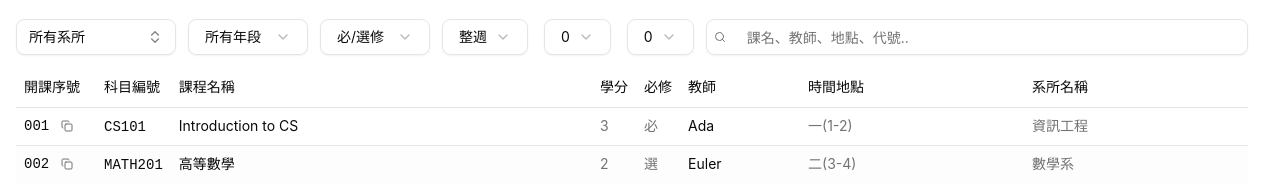
Scenario: CourseInfoTable › filters by search term
The image size is (1268, 188).
Expected: the text "Introduction to CS" is shown, [179,117,298,134]
Type "數學" into the field with placeholder "課名、教師、地點、代號..".
click(977, 37); type("數學")  # box [706,19,1248,55]
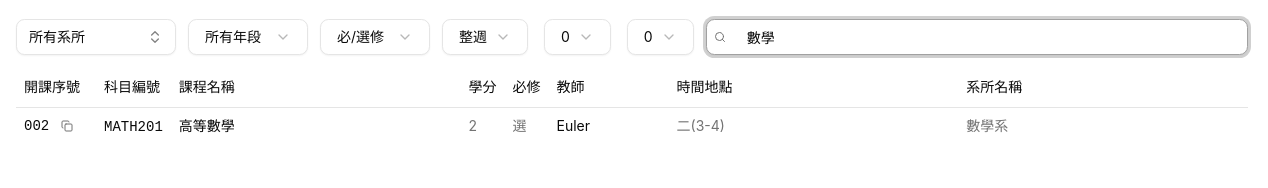
Expected: the text "Introduction to CS" is gone
